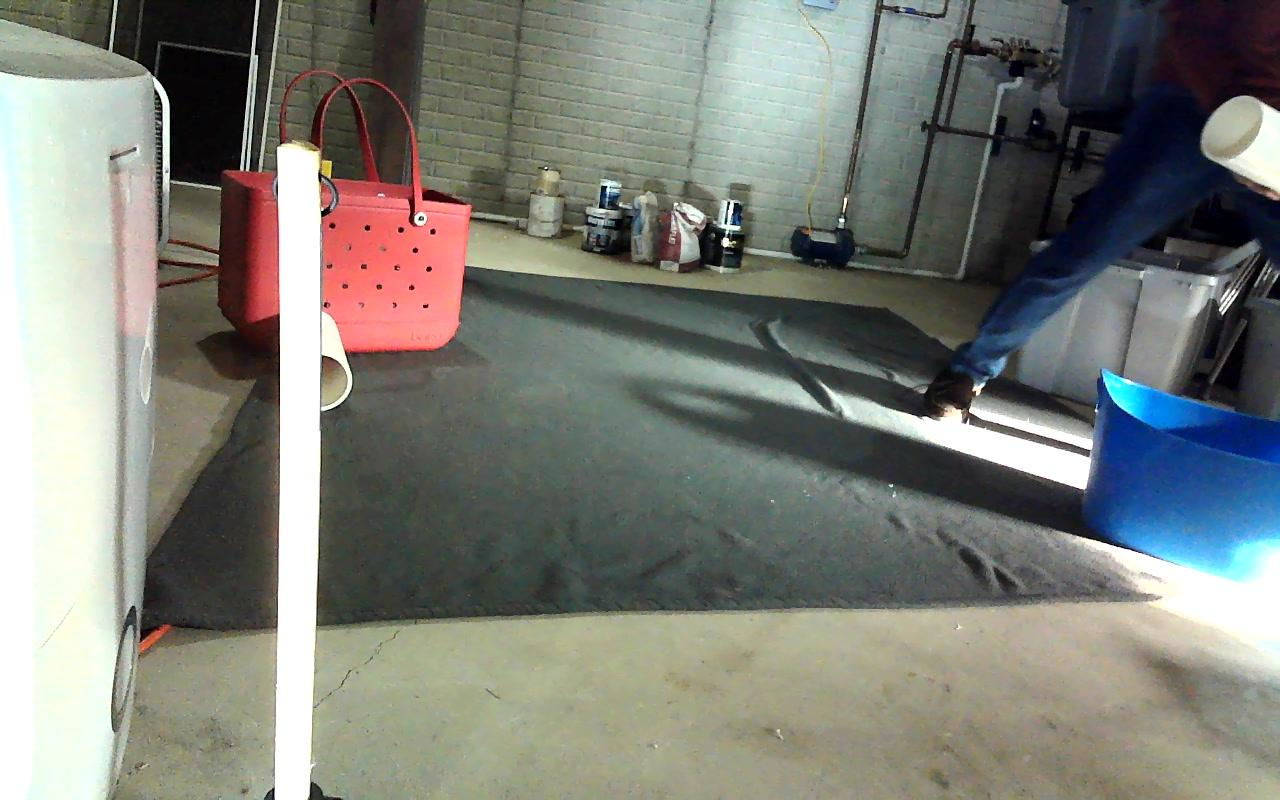coral: (277, 308, 350, 411)
